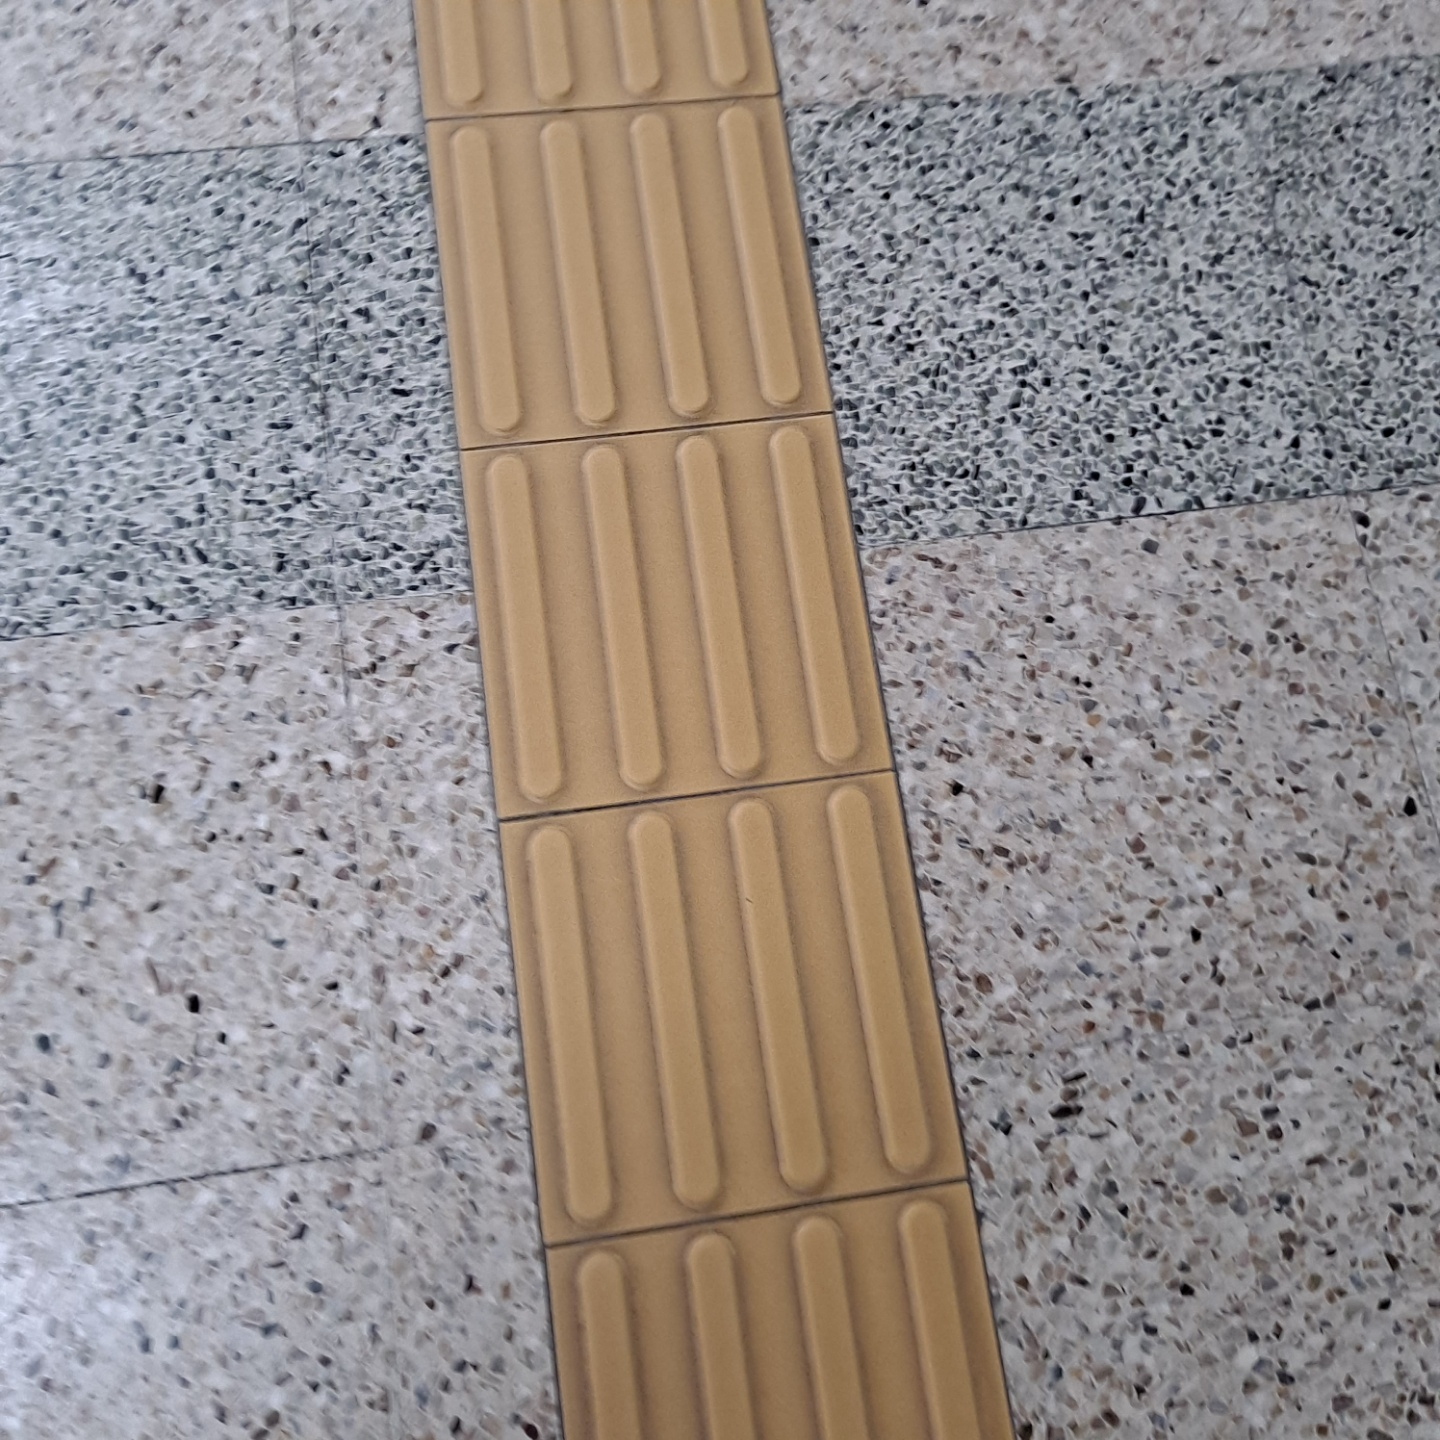guideBlock: (512, 818, 992, 1201), (504, 438, 869, 800), (440, 136, 804, 440), (546, 1222, 1001, 1440), (411, 1, 767, 98)
